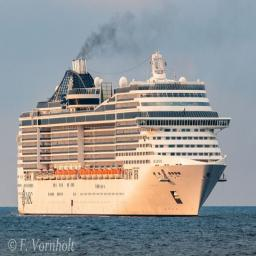cruises: (16, 49, 233, 222)
